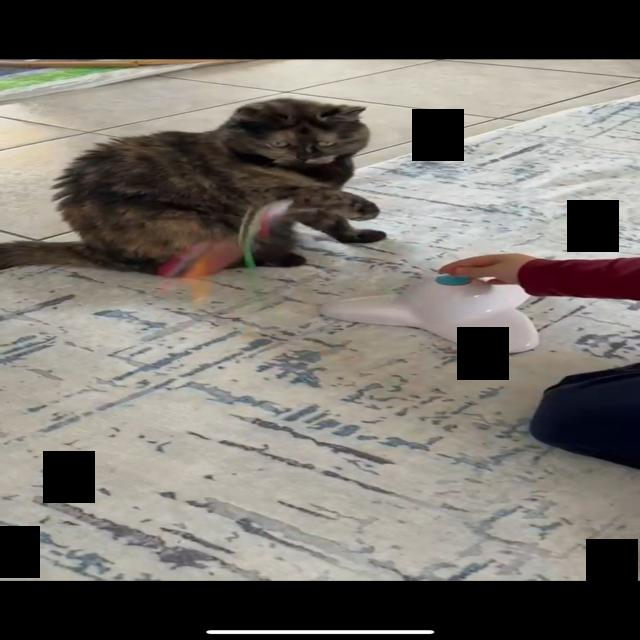authorized: (1, 97, 387, 276)
